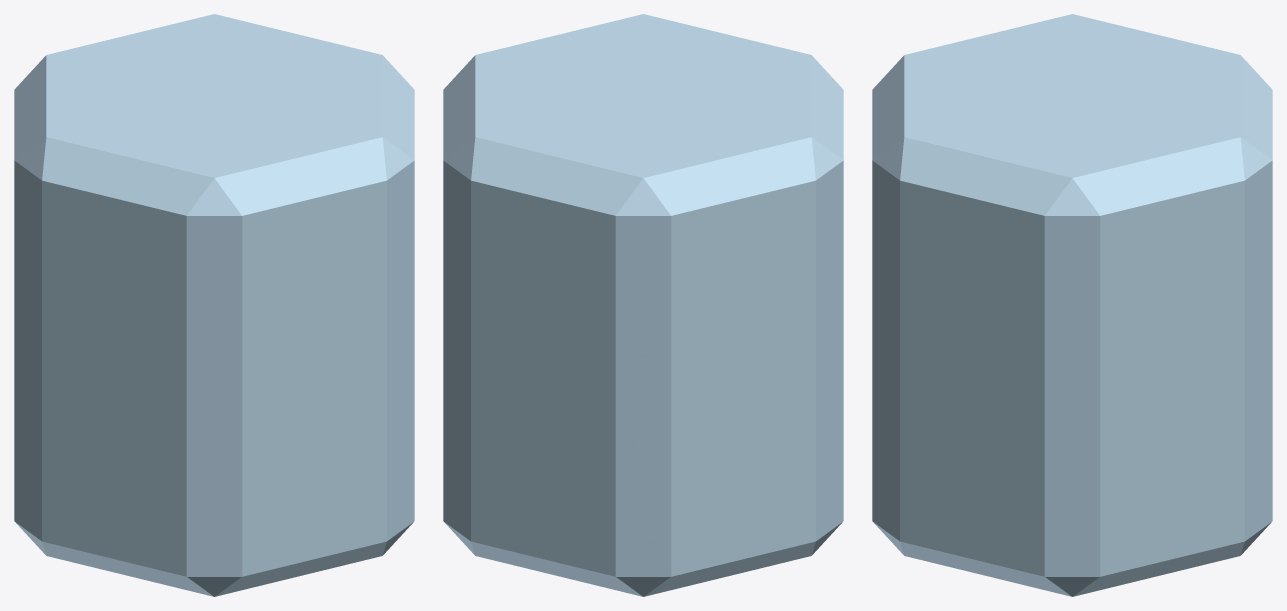
Rendered from R4B_HexColumn.glb.
The picture shows the model from 3 angles, left to right: view 1: azimuth 30°, elevation 25°; view 2: azimuth 150°, elevation 25°; view 3: azimuth 270°, elevation 25°; orthographic projection.
Parts seen in each view (by area): view 1: R4B_HexColumn; view 2: R4B_HexColumn; view 3: R4B_HexColumn.
Part boxes in pixels (x1=…): R4B_HexColumn: x1=14, y1=14, x2=414, y2=596; R4B_HexColumn: x1=443, y1=14, x2=843, y2=596; R4B_HexColumn: x1=872, y1=14, x2=1272, y2=596.
Size of the model in its own units: 0.484 by 0.52 by 0.4503.
